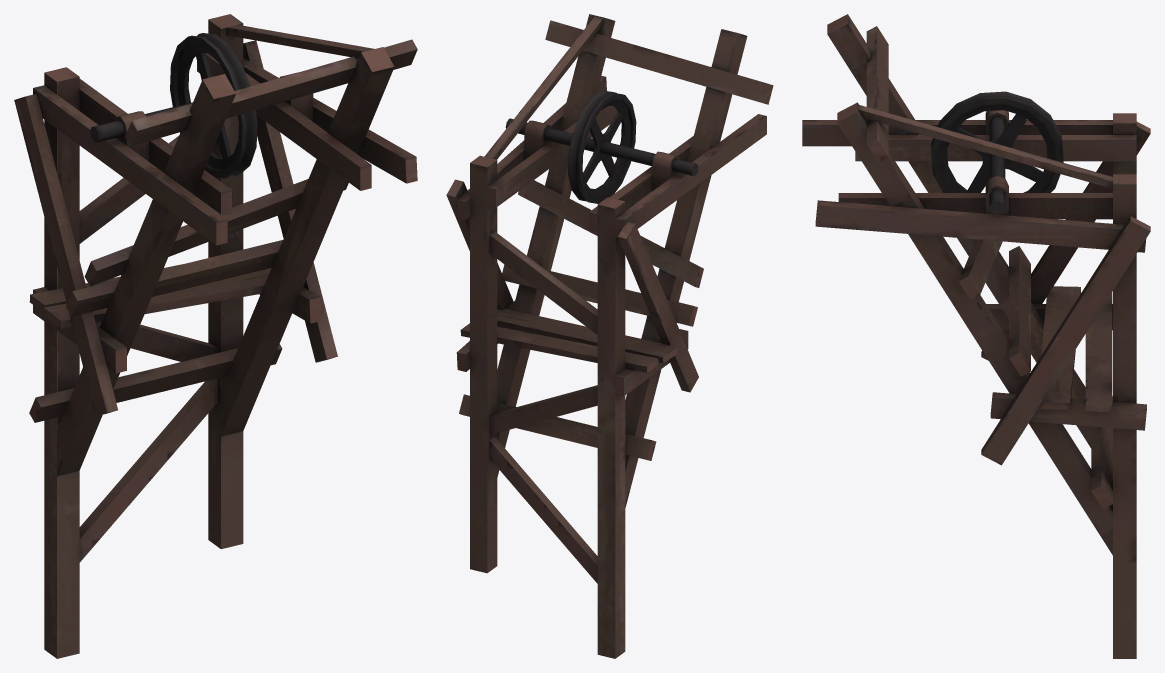
3 renders of one model, left to right at view 1: azimuth 30°, elevation 25°; view 2: azimuth 150°, elevation 25°; view 3: azimuth 270°, elevation 25°, orthographic. The views are drawn at different scales.
Visible parts, largest first — view 1: body0_model0_lod0_mesh0; view 2: body0_model0_lod0_mesh0; view 3: body0_model0_lod0_mesh0.
Part boxes in pixels (box(x1,y1,x2,y2)): body0_model0_lod0_mesh0: box(14, 14, 417, 658); body0_model0_lod0_mesh0: box(446, 14, 773, 658); body0_model0_lod0_mesh0: box(802, 14, 1150, 658).
Size of the model in its own units: 97.89 by 229 by 115.
Materials: 1 (1 with a texture image).
